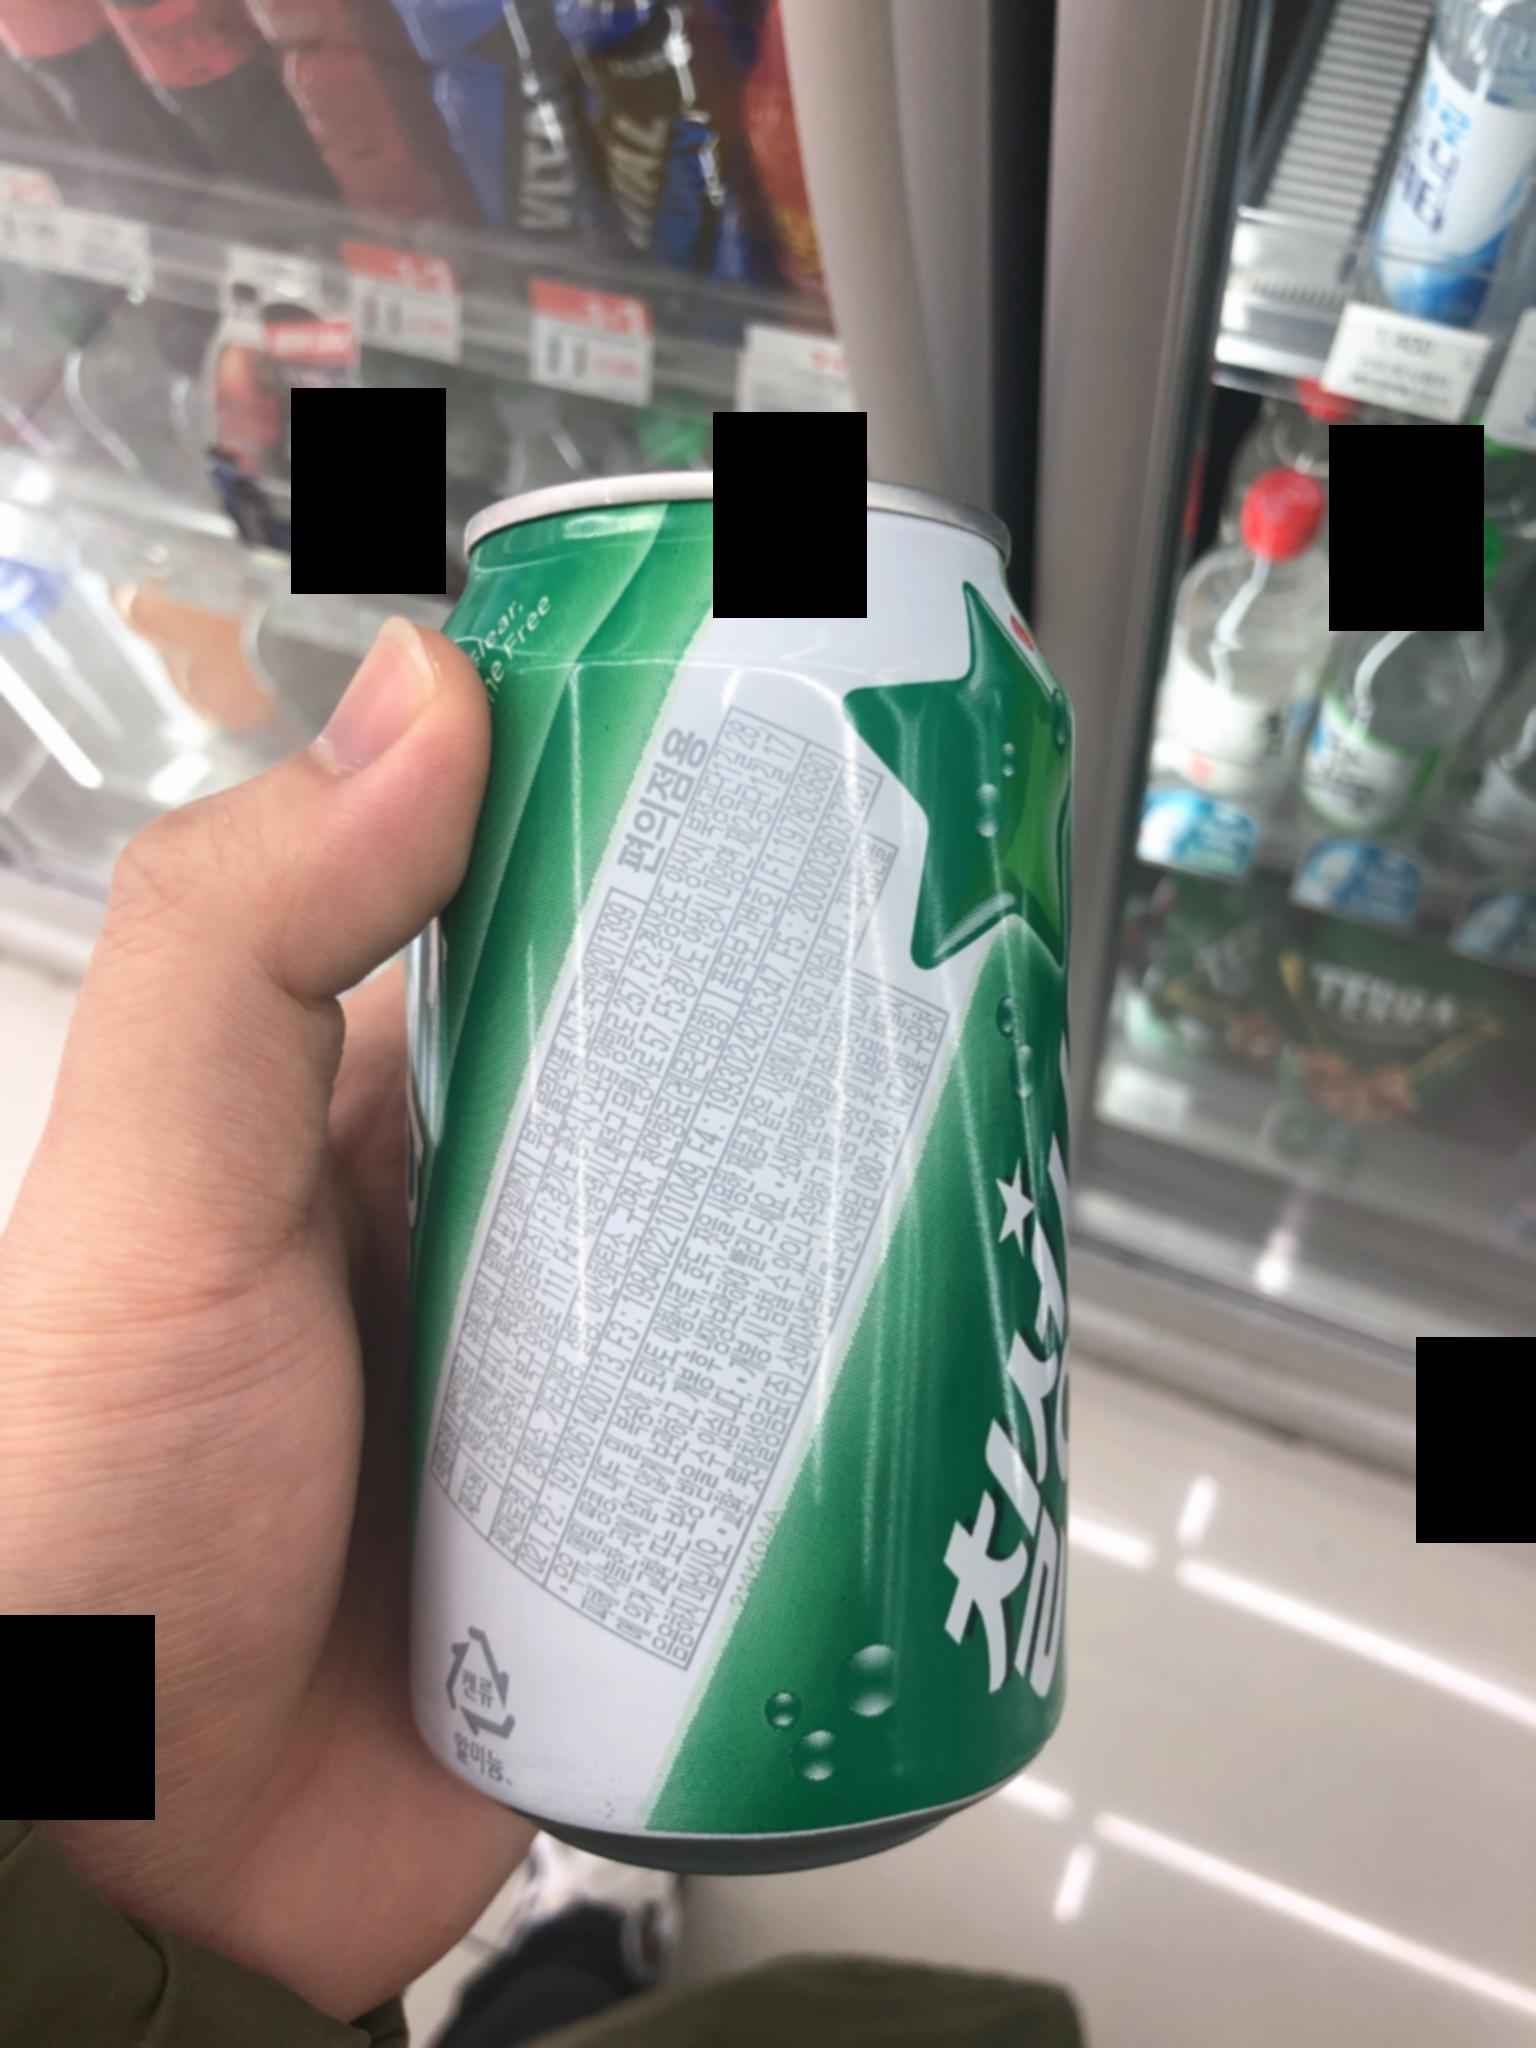chilsungcider: (365, 426, 1113, 1880)
